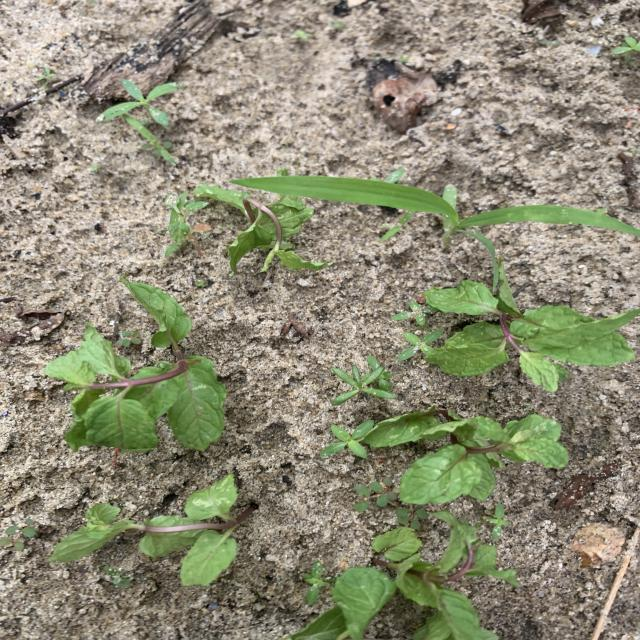crop: (45, 281, 226, 450), (293, 511, 518, 640), (423, 280, 640, 391), (49, 474, 255, 585), (365, 412, 568, 504), (194, 185, 328, 272)
weed: (230, 176, 640, 289), (103, 80, 178, 126), (332, 356, 395, 405), (164, 193, 209, 258), (125, 116, 178, 164), (320, 423, 372, 459), (353, 478, 399, 512), (398, 329, 443, 361), (391, 300, 437, 327), (0, 521, 39, 551), (303, 560, 327, 605), (381, 211, 415, 241), (486, 504, 508, 540), (396, 507, 428, 530), (611, 37, 640, 56), (36, 68, 59, 87), (115, 331, 142, 347), (293, 29, 312, 40)
